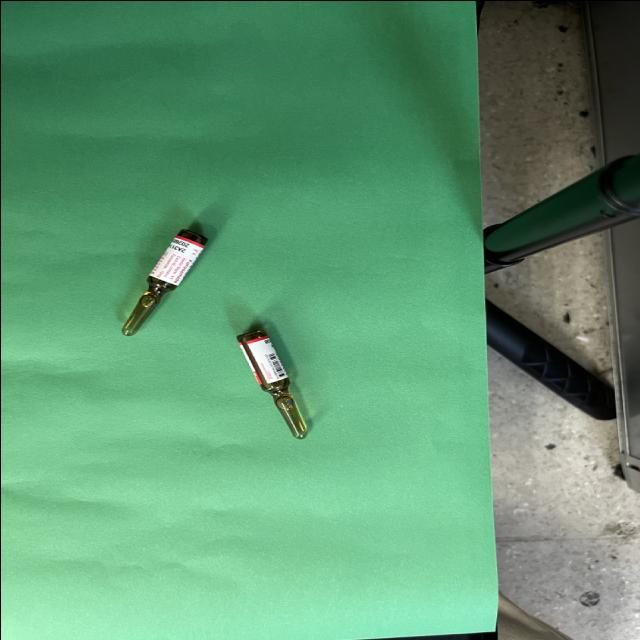Ampoules: (121, 228, 207, 336), (237, 329, 307, 438)
